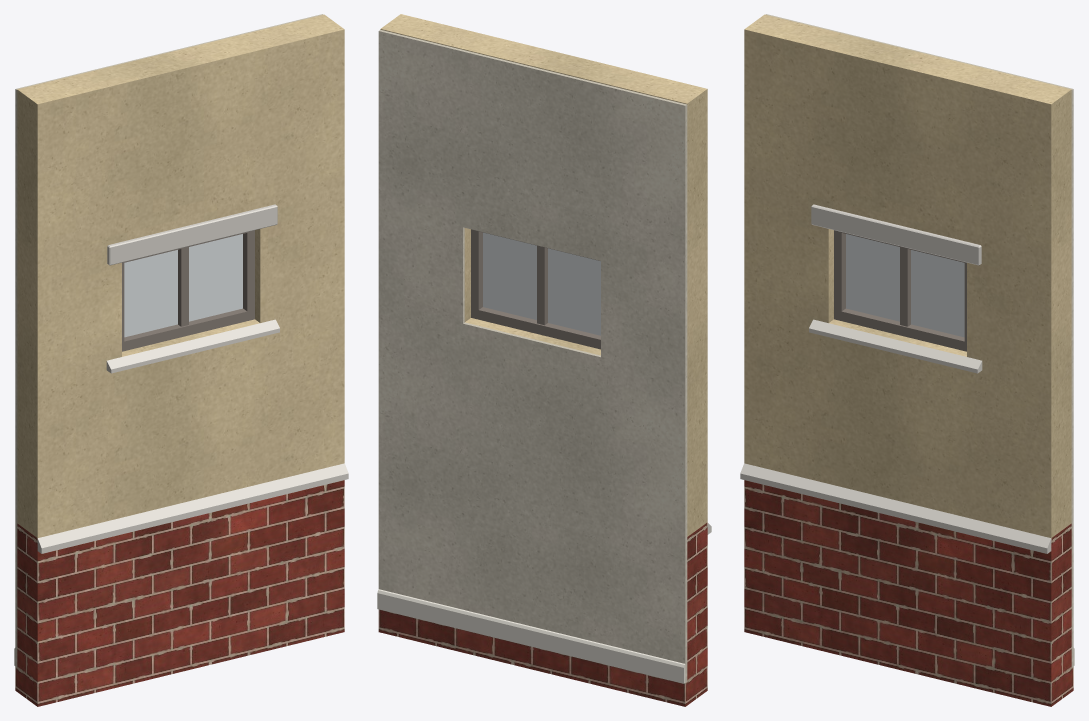
The model's file is w_hwin.glb.
3 renders of one model, left to right at view 1: azimuth 30°, elevation 25°; view 2: azimuth 150°, elevation 25°; view 3: azimuth 330°, elevation 25°, orthographic.
Visible parts, largest first — view 1: w_hwin_render, w_hwin_brick, w_hwin_cill, w_hwin_frost, w_hwin_frame, w_hwin_plaster; view 2: w_hwin_plaster, w_hwin_render, w_hwin_brick, w_hwin_frost, w_hwin_trim, w_hwin_frame; view 3: w_hwin_render, w_hwin_brick, w_hwin_cill, w_hwin_frost, w_hwin_frame, w_hwin_plaster.
Part boxes in pixels (x1,y1,x2,y2): w_hwin_render: (17,14,344,537); w_hwin_brick: (15,480,344,706); w_hwin_cill: (37,204,348,553); w_hwin_frost: (124,234,242,337); w_hwin_frame: (122,230,254,351); w_hwin_plaster: (15,14,322,667); w_hwin_plaster: (378,29,687,682); w_hwin_render: (380,14,707,536); w_hwin_brick: (378,522,707,706); w_hwin_frost: (483,232,600,335); w_hwin_trim: (377,589,685,683); w_hwin_frame: (471,229,600,349); w_hwin_render: (744,14,1071,537); w_hwin_brick: (744,480,1073,706); w_hwin_cill: (740,204,1051,553); w_hwin_frost: (846,234,964,337); w_hwin_frame: (834,230,966,351); w_hwin_plaster: (766,14,1073,667).
Bounding box in the file's own units: 2 × 3.75 × 0.316.
Materials: 7 (3 with a texture image).
